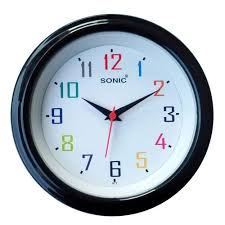alarm_clock: (9, 14, 215, 214)
